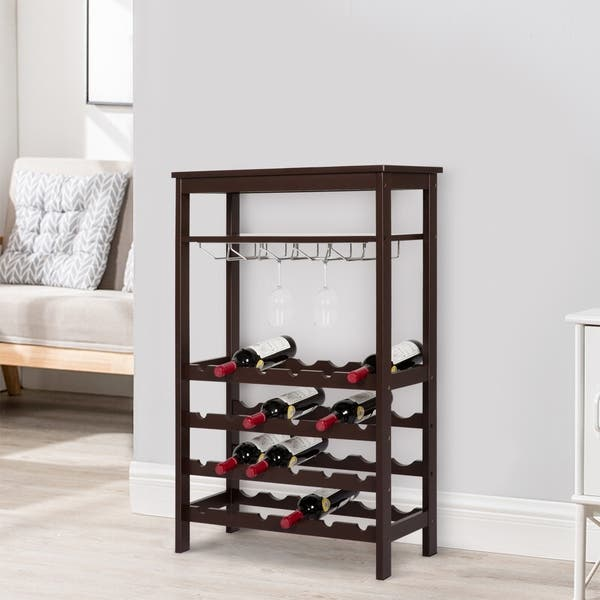bottle: (243, 385, 324, 441), (216, 333, 298, 383), (344, 340, 425, 388), (281, 489, 360, 534), (247, 438, 328, 479), (317, 390, 379, 435), (215, 434, 278, 476)
